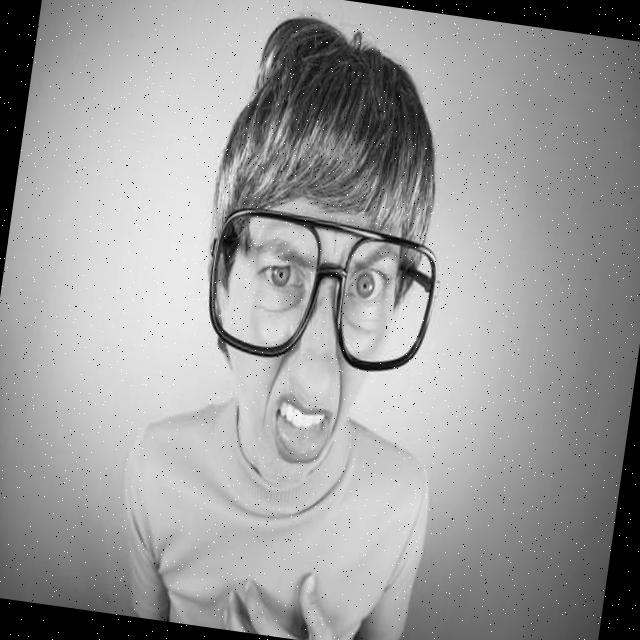Disgust: (198, 191, 408, 500)
